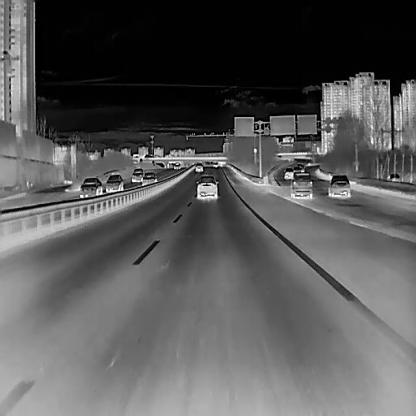car: (290, 172, 313, 199), (196, 175, 219, 198), (328, 174, 351, 196), (80, 177, 102, 195), (106, 174, 124, 191), (142, 172, 157, 186), (284, 167, 295, 179), (131, 172, 143, 182), (387, 173, 400, 181), (293, 165, 304, 173), (195, 163, 203, 172), (133, 168, 143, 173), (174, 162, 181, 169), (213, 162, 218, 166)
